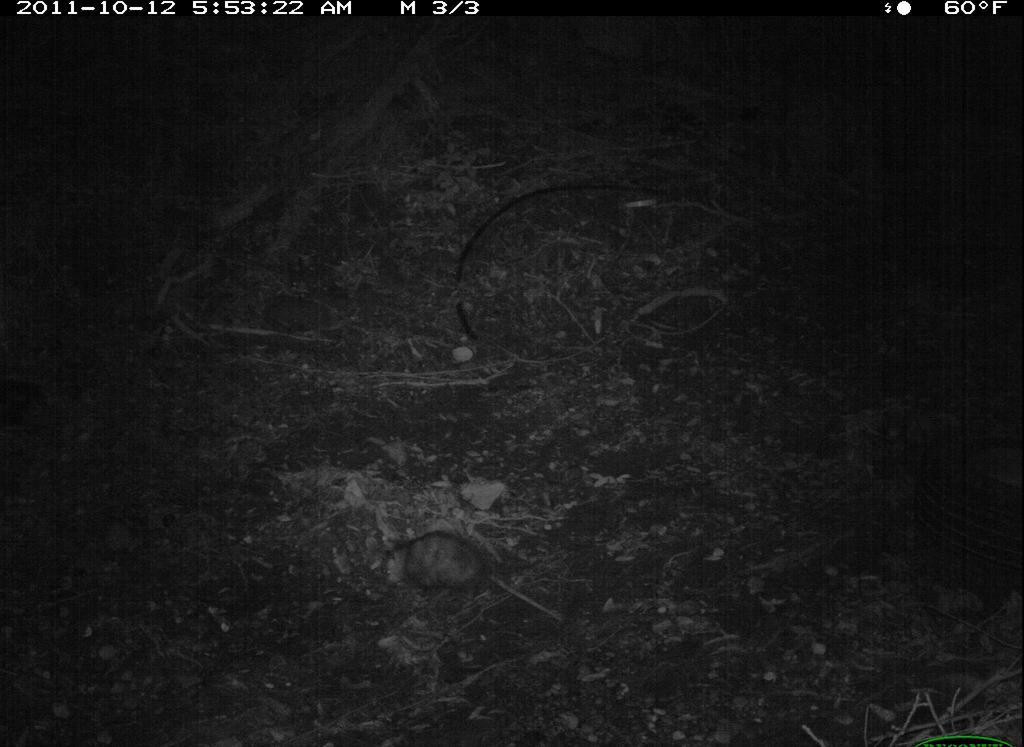opossum: (373, 525, 570, 633)
